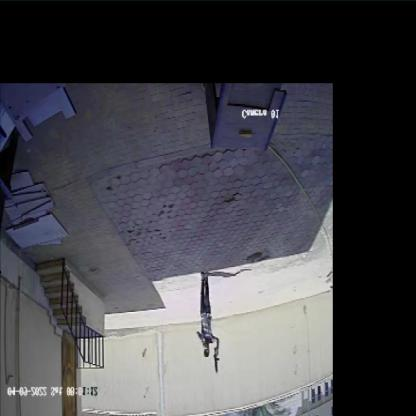handgun: (209, 340, 224, 379)
